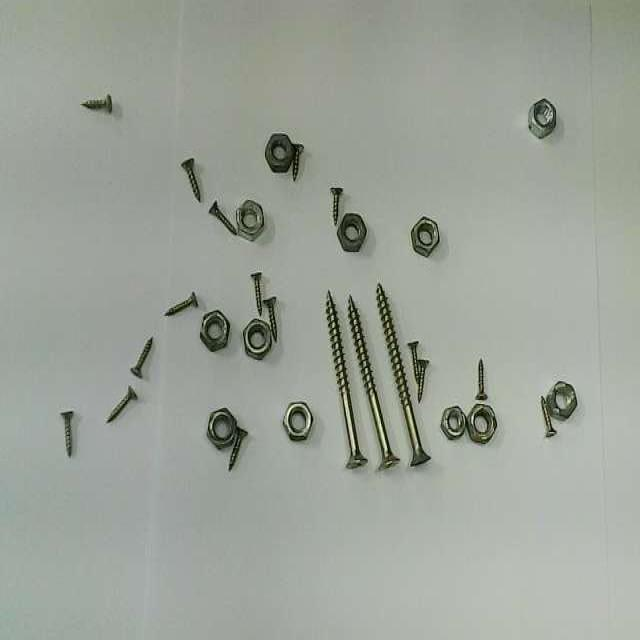Parafuso: (377, 285, 429, 465), (348, 296, 398, 468), (325, 292, 367, 465), (107, 385, 137, 421), (209, 201, 237, 233), (130, 337, 152, 377), (182, 159, 200, 200), (229, 428, 247, 469), (165, 292, 197, 315), (541, 396, 556, 436), (61, 412, 73, 456), (264, 299, 276, 340), (475, 359, 487, 400), (407, 341, 418, 383), (83, 95, 111, 111), (418, 359, 428, 401), (331, 187, 342, 224), (252, 272, 261, 315), (293, 144, 303, 180)
Porca: (265, 133, 296, 172), (207, 408, 237, 448), (546, 381, 577, 419), (467, 404, 496, 443), (283, 401, 312, 439), (411, 216, 438, 256), (244, 319, 271, 359), (200, 312, 229, 349), (237, 200, 263, 240), (529, 99, 554, 137), (339, 215, 365, 249), (441, 405, 466, 439)
